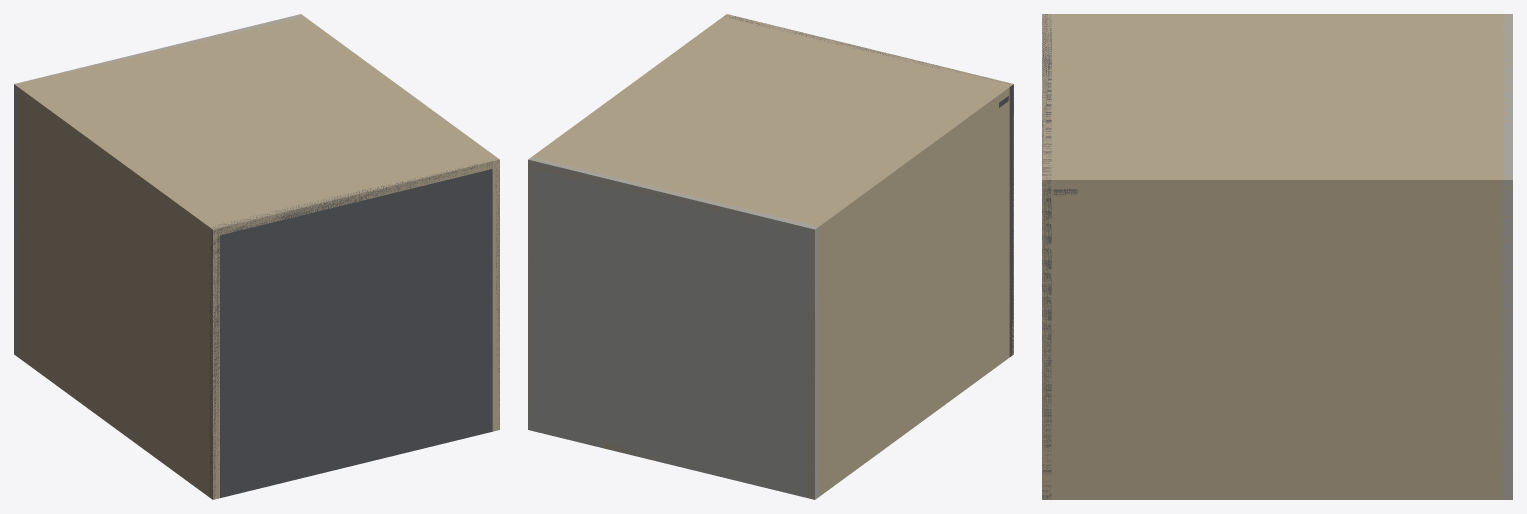
3 views of the same model, side by side, from view 1: azimuth 30°, elevation 25°; view 2: azimuth 150°, elevation 25°; view 3: azimuth 270°, elevation 25° (orthographic). The views are drawn at different scales.
Visible parts, largest first — view 1: ceiling, back_wall, left_wall, right_wall, floor; view 2: floor, back_wall, left_wall, ceiling, right_wall; view 3: right_wall, back_wall, floor, ceiling, left_wall.
Boxes of the visible parts, <box> form: ceiling: <box>209,159,499,499</box>; back_wall: <box>14,14,499,236</box>; left_wall: <box>14,85,219,499</box>; right_wall: <box>296,14,499,431</box>; floor: <box>14,14,303,356</box>; floor: <box>528,157,819,499</box>; back_wall: <box>528,14,1013,235</box>; left_wall: <box>808,87,1013,499</box>; ceiling: <box>724,15,1013,356</box>; right_wall: <box>528,14,732,428</box>; right_wall: <box>1042,175,1512,499</box>; back_wall: <box>1042,14,1512,188</box>; floor: <box>1503,14,1512,499</box>; ceiling: <box>1042,14,1051,499</box>; left_wall: <box>1042,14,1511,17</box>.
Size of the model in its own units: 2 by 1.8 by 2.4.
